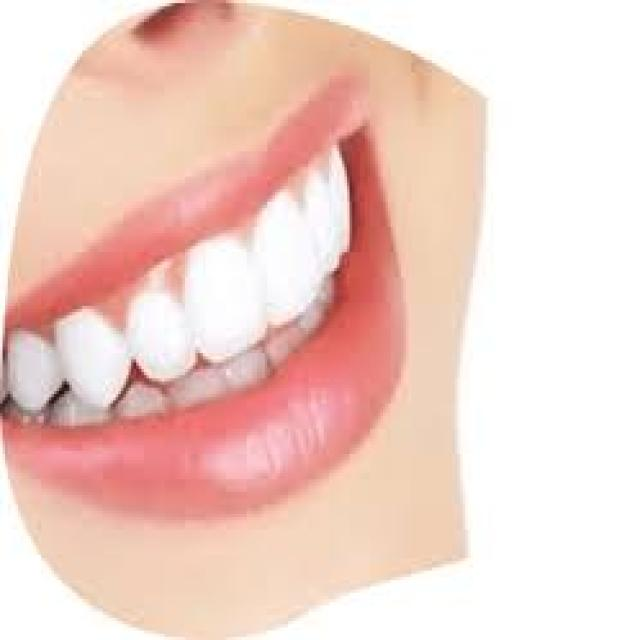tooth: (188, 246, 260, 344), (129, 287, 185, 375), (72, 318, 123, 391), (268, 221, 308, 309), (10, 338, 54, 398), (314, 192, 336, 271), (226, 353, 270, 388), (339, 167, 352, 252), (54, 403, 108, 422), (183, 382, 226, 404), (128, 391, 164, 413), (314, 287, 332, 318), (278, 328, 300, 353)
